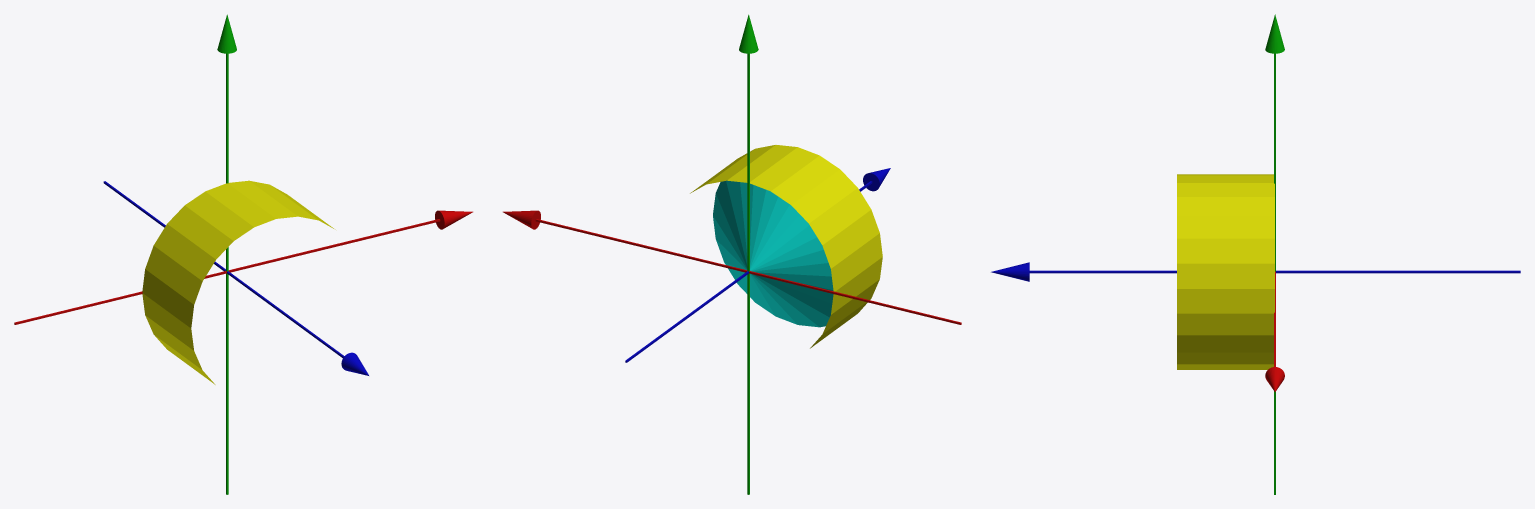
The model's file is Cilindro_y_Cono.glb.
3 views of the same model, side by side, from view 1: azimuth 30°, elevation 25°; view 2: azimuth 150°, elevation 25°; view 3: azimuth 270°, elevation 25° (orthographic).
Visible parts, largest first — view 1: world; view 2: world; view 3: world.
Boxes of the visible parts, box(x1,y1,x2,y2) form: world: box(14, 14, 472, 494); world: box(503, 14, 961, 494); world: box(991, 14, 1520, 494).
Size of the model in its own units: 5.4 by 5.4 by 5.4.
